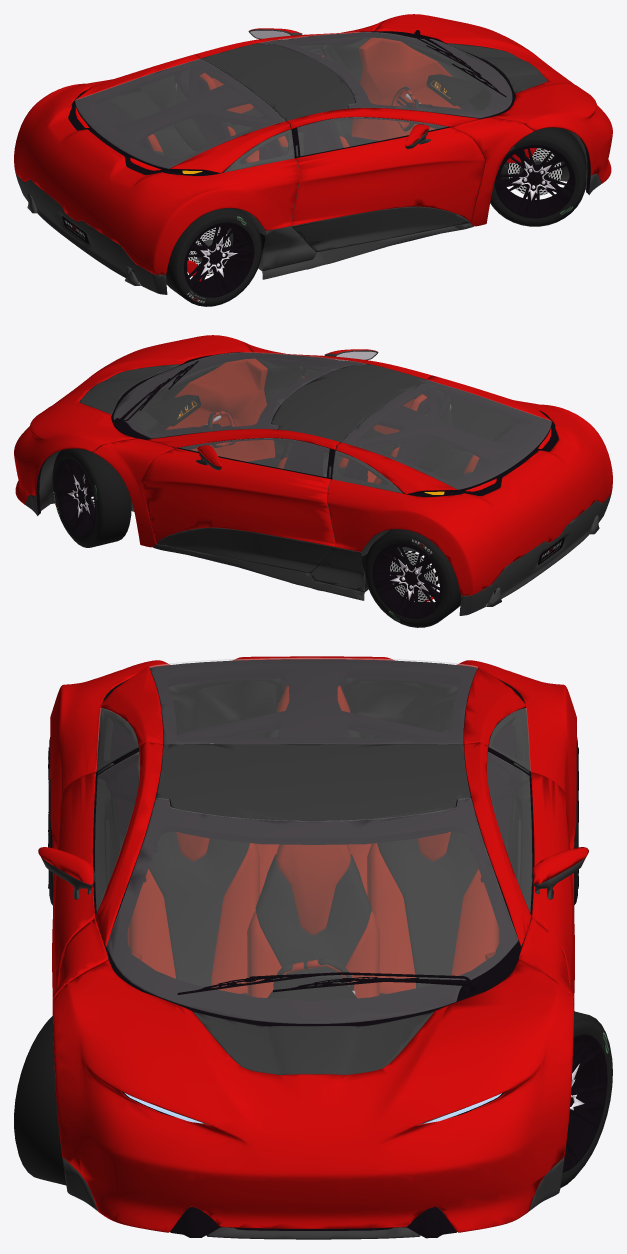
File: car-sedan.glb
The picture shows the model from 3 angles, top to bottom: view 1: azimuth 30°, elevation 25°; view 2: azimuth 150°, elevation 25°; view 3: azimuth 270°, elevation 25°; orthographic projection. The views are drawn at different scales.
Parts seen in each view (by area): view 1: BodyRearPanelsColor1, BodyRearwindow, BodyDoorRColor1, BodyWindshield, BodyHood, BodyPanelsColor2, BodyRoofPanel, object 84, BodyPillars, InteriorDashSides, InteriorRearHatch, BodyDoorRColor2 (+20 smaller); view 2: BodyRearPanelsColor1, BodyRearwindow, BodyDoorLColor1, BodyWindshield, BodyHood, BodyPanelsColor2, object 84, BodyRoofPanel, BodyPillars, InteriorDashSides, InteriorRearHatch, BodyDoorLColor2 (+20 smaller); view 3: BodyHood, BodyWindshield, BodyRearwindow, InteriorSeatsColor1, InteriorSeatsColor2, BodyRoofPanel, BodyWindshieldGasket, BodyRearPanelsColor1, InteriorRearPanels, BodyPillars, InteriorRearHatch, BodyHoodTopgrill (+19 smaller).
Part boxes in pixels (box(x1,y1,x2,y2)): BodyRearPanelsColor1: box(14, 54, 299, 274); BodyRearwindow: box(75, 59, 284, 168); BodyDoorRColor1: box(291, 127, 485, 225); BodyWindshield: box(261, 32, 511, 117); BodyHood: box(375, 14, 612, 183); BodyPanelsColor2: box(16, 173, 601, 294); BodyRoofPanel: box(201, 43, 354, 121); object 84: box(166, 127, 586, 306); BodyPillars: box(195, 21, 533, 226); InteriorDashSides: box(351, 37, 460, 140); InteriorRearHatch: box(76, 59, 289, 172); BodyDoorRColor2: box(292, 206, 470, 251); BodyRearPanelsColor1: box(327, 375, 612, 595); BodyRearwindow: box(341, 380, 551, 489); BodyDoorLColor1: box(141, 448, 335, 546); BodyWindshield: box(114, 352, 365, 438); BodyHood: box(14, 335, 252, 504); BodyPanelsColor2: box(25, 494, 610, 615); object 84: box(52, 448, 460, 627); BodyRoofPanel: box(272, 364, 425, 442); BodyPillars: box(93, 342, 431, 547); InteriorDashSides: box(166, 358, 275, 461); InteriorRearHatch: box(337, 380, 550, 493); BodyDoorLColor2: box(156, 527, 334, 572); BodyHood: box(53, 960, 574, 1232); BodyWindshield: box(107, 798, 517, 1023); BodyRearwindow: box(149, 658, 477, 744); InteriorSeatsColor1: box(127, 685, 499, 998); InteriorSeatsColor2: box(148, 712, 478, 995); BodyRoofPanel: box(156, 744, 470, 821); BodyWindshieldGasket: box(106, 799, 520, 1026); BodyRearPanelsColor1: box(50, 656, 576, 849); InteriorRearPanels: box(96, 678, 534, 859); BodyPillars: box(52, 742, 574, 1015); InteriorRearHatch: box(101, 659, 525, 749); BodyHoodTopgrill: box(193, 1011, 433, 1074).
Size of the model in its own units: 4.36 by 1.15 by 2.54.
Materials: 23 (6 with a texture image).
